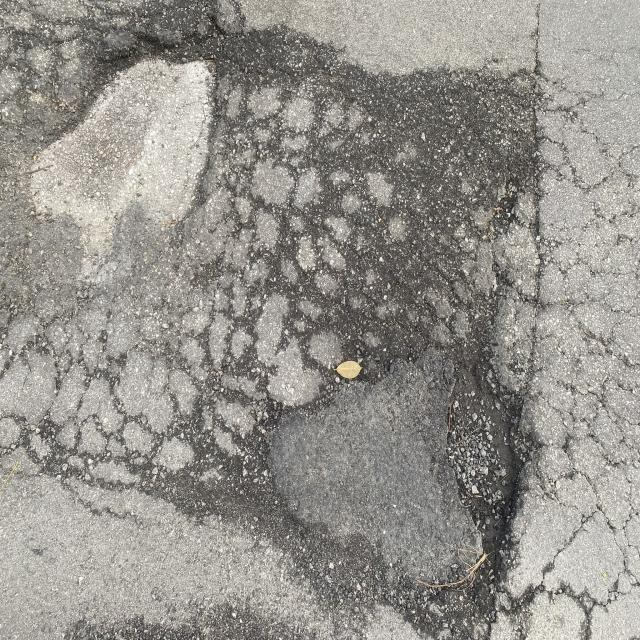pothole: (230, 303, 580, 608), (46, 0, 270, 122)
